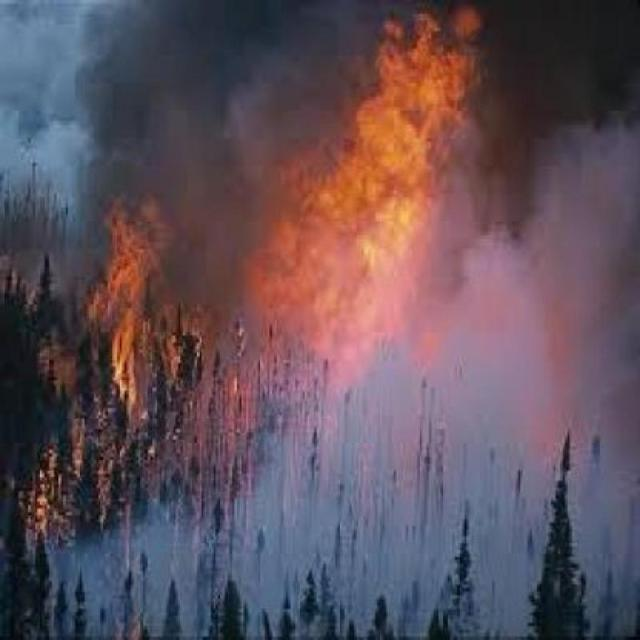Fire: (290, 19, 464, 406), (85, 168, 180, 362)
Smoke: (484, 14, 639, 516)
